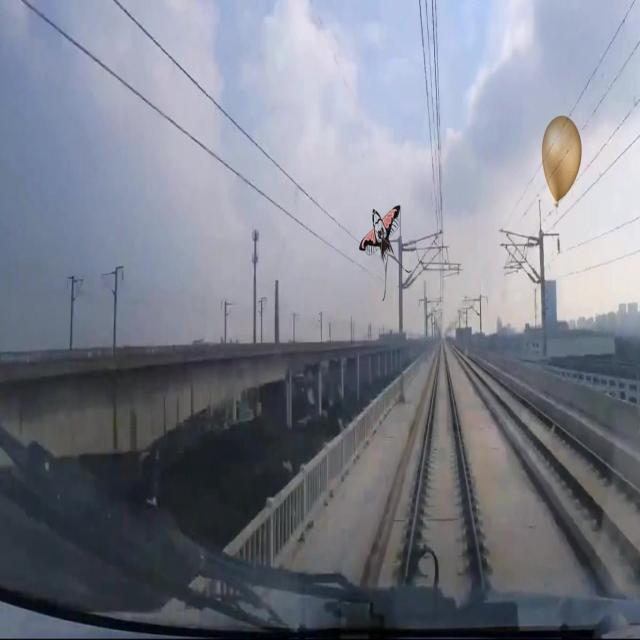balloon: (540, 113, 582, 204)
floating object: (362, 204, 398, 259)
